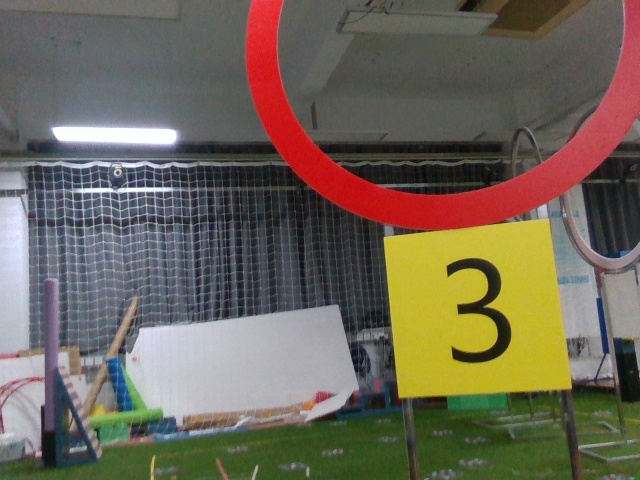target: (392, 236, 557, 391)
